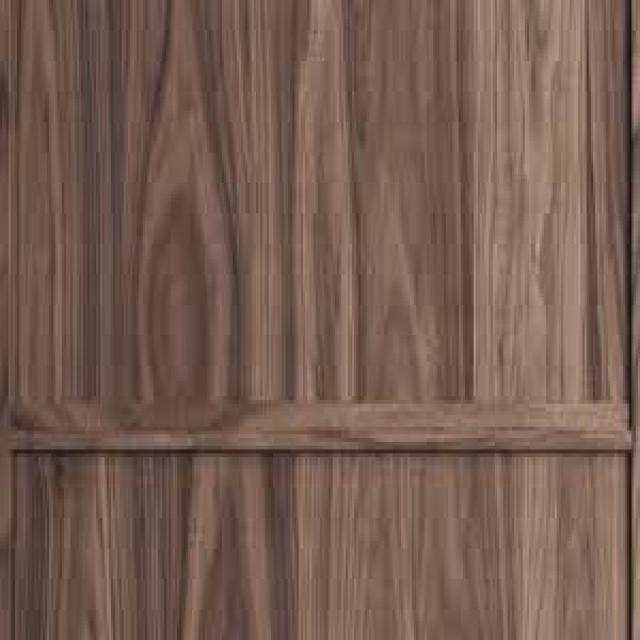perfect-wooden-plate: (0, 3, 626, 636)
